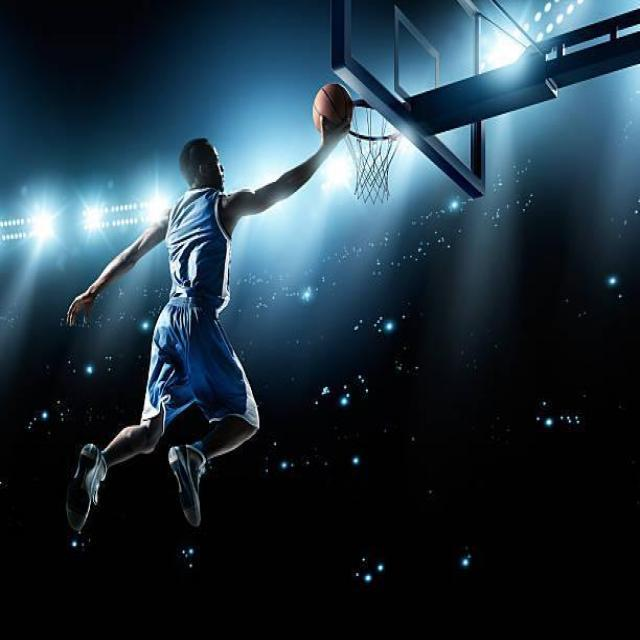Basketball: (312, 84, 353, 138)
hoop: (344, 98, 411, 204)
